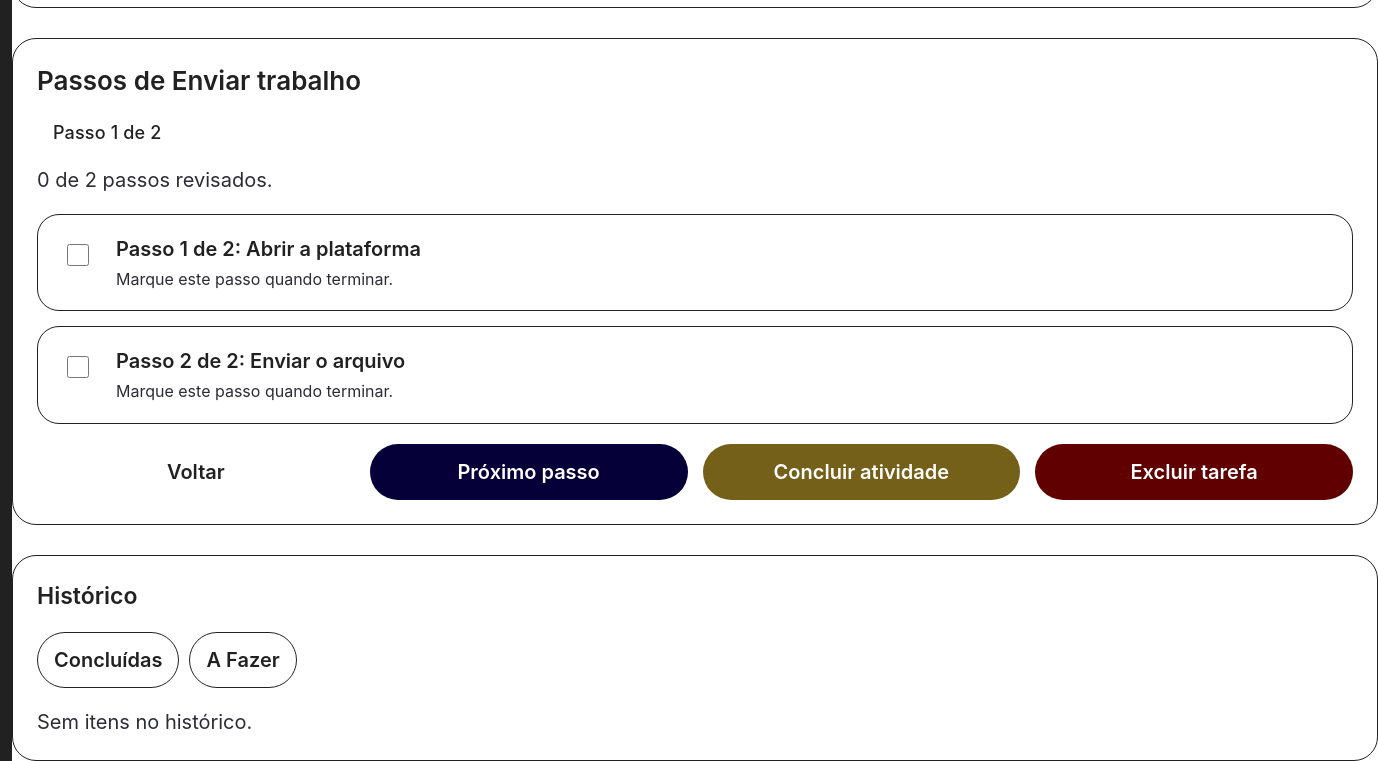
Scenario: ActivityOrganizer › lists only pending activities with a warning status and bullet steps
(page scrolled)
Click the button "A Fazer": (243, 660) [190,632,297,688]
(page scrolled)
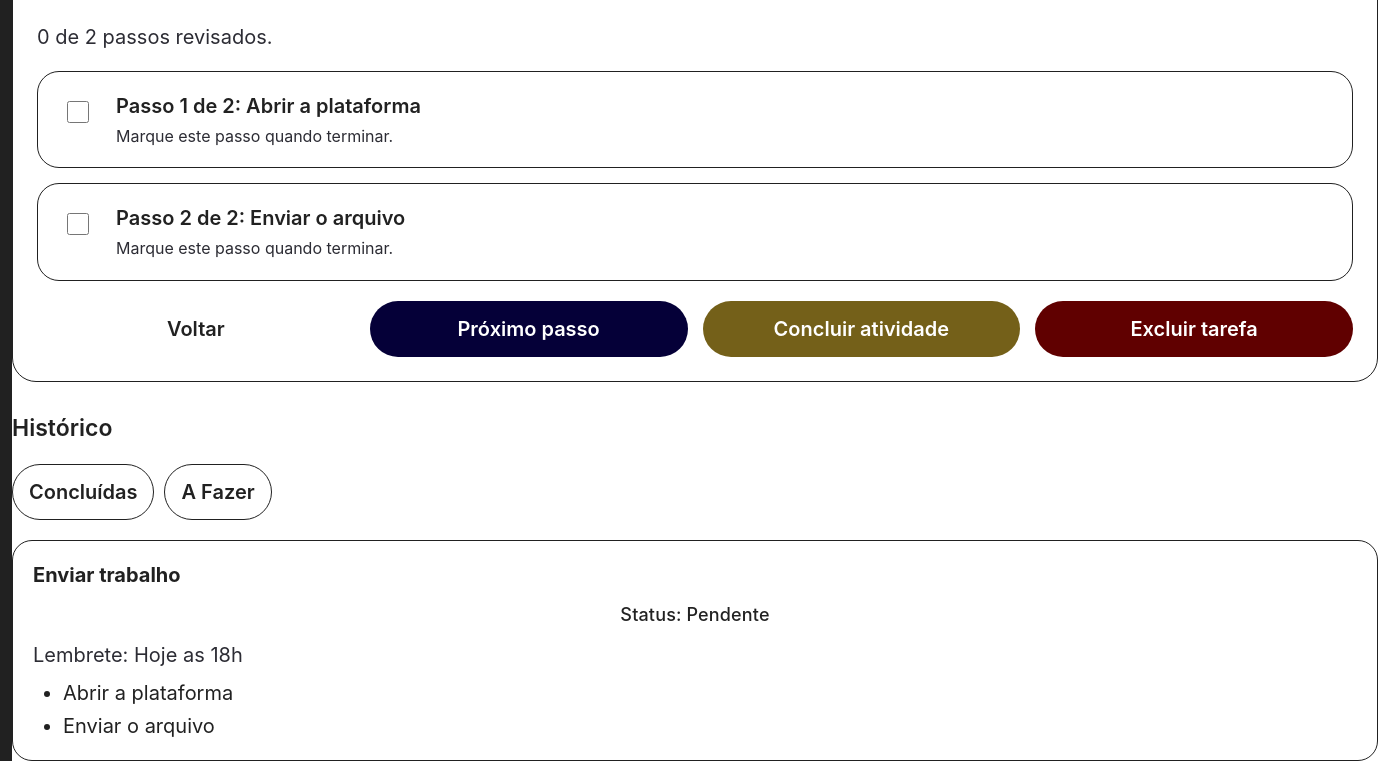
Now the text "Enviar trabalho" is shown, box [33,563,180,587]
Now the text "Status: Pendente" is shown, box [620,604,770,625]
Now the list item "Abrir a plataforma" is shown, box [63,681,233,705]
